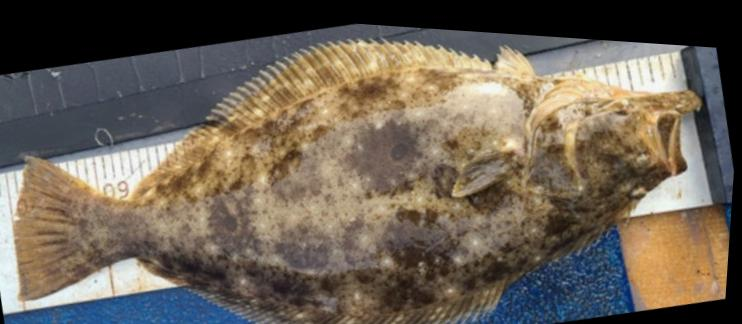fish: (13, 32, 701, 324)
